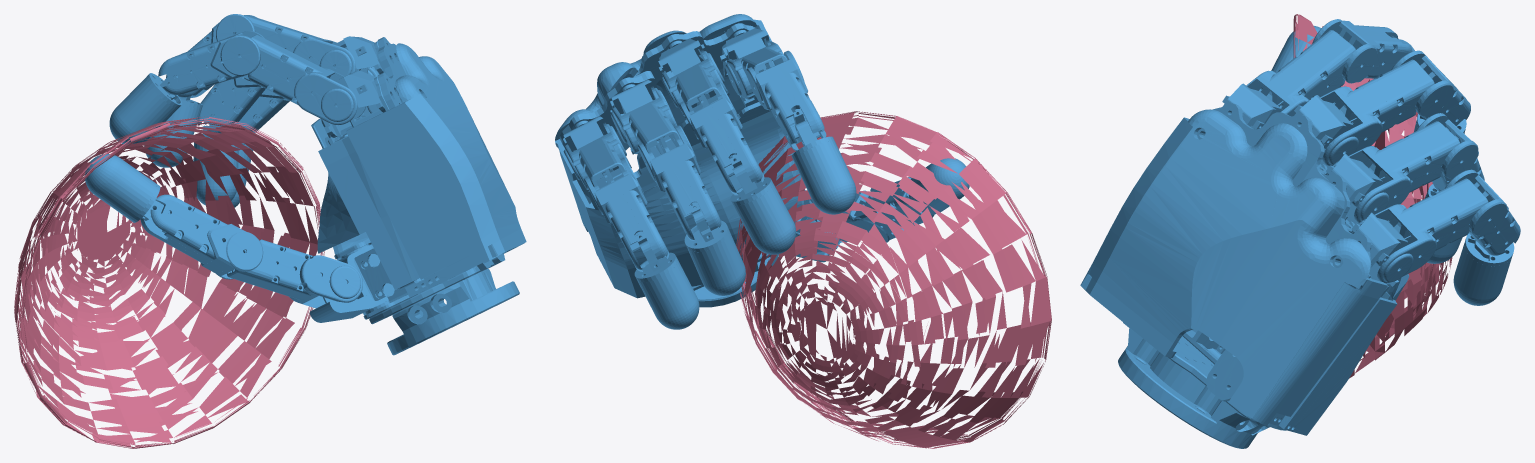
3 views of the same model, side by side, from view 1: azimuth 30°, elevation 25°; view 2: azimuth 150°, elevation 25°; view 3: azimuth 270°, elevation 25° (orthographic). The views are drawn at different scales.
Visible parts, largest first — view 1: 0; view 2: 0; view 3: 0.
Part boxes in pixels (x1,y1,x2,y2): 0: (14,14,526,448); 0: (555,14,1051,448); 0: (1080,14,1520,448).
Size of the model in its own units: 0.2474 by 0.1841 by 0.1767.
